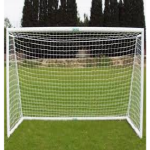goals: (5, 25, 144, 141)
